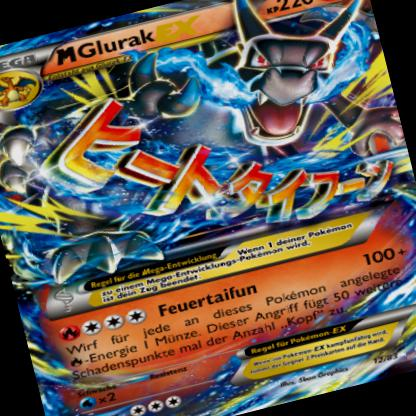Charizard: (1, 2, 416, 299)
